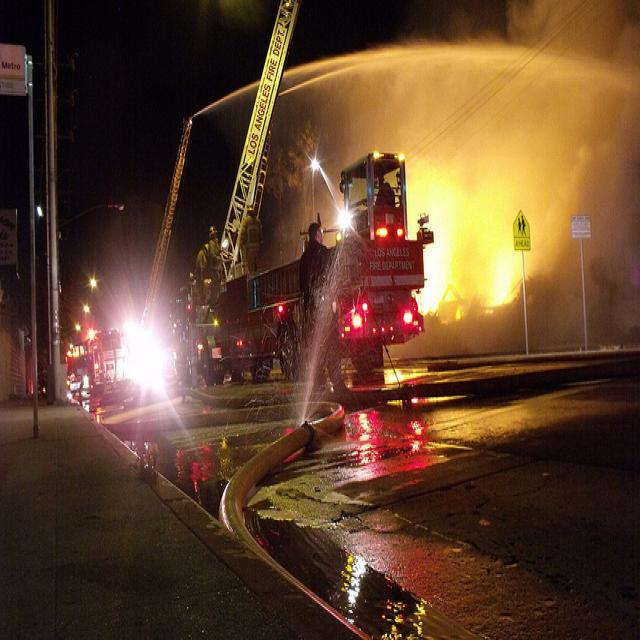Vehicle: (173, 213, 436, 388)
